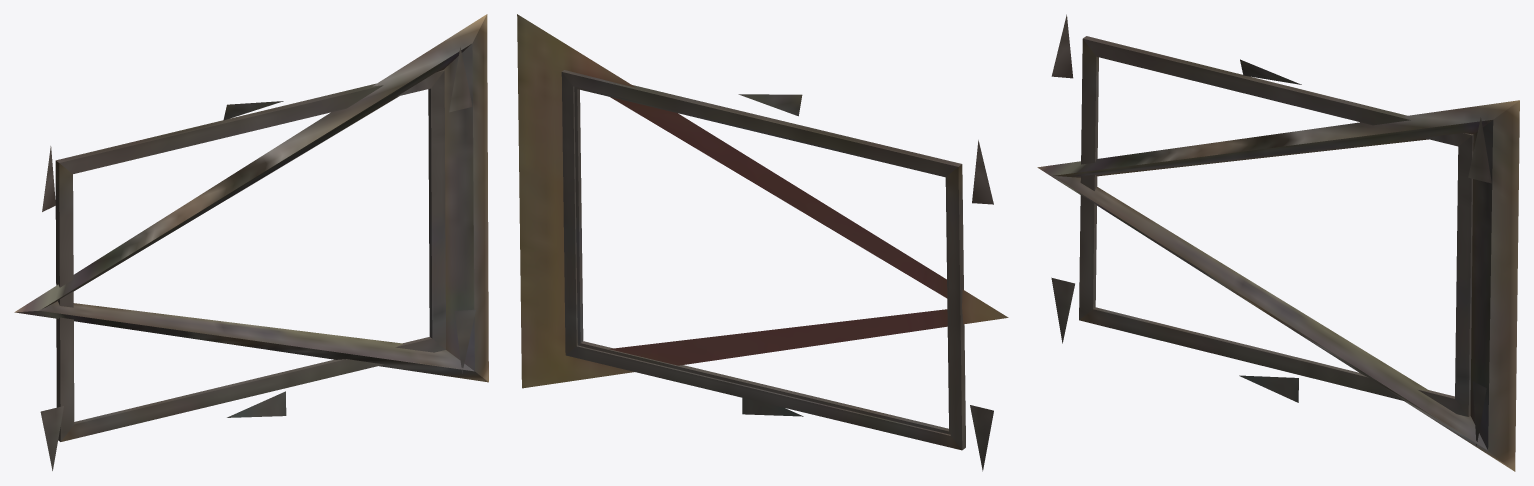
Rendered from painting-landscape-b.lod1.glb.
The picture shows the model from 3 angles, left to right: view 1: azimuth 30°, elevation 25°; view 2: azimuth 150°, elevation 25°; view 3: azimuth 330°, elevation 25°; orthographic projection. The views are drawn at different scales.
Parts seen in each view (by area): view 1: painting-landscape-b; view 2: painting-landscape-b; view 3: painting-landscape-b.
Boxes of the visible parts, box(x1,y1,x2,y2) form: painting-landscape-b: box(14, 14, 488, 470); painting-landscape-b: box(517, 14, 1008, 471); painting-landscape-b: box(1037, 14, 1519, 471).
Bounding box in the file's own units: 0.7583 × 0.5575 × 0.034.
Materials: 1 (1 with a texture image).
